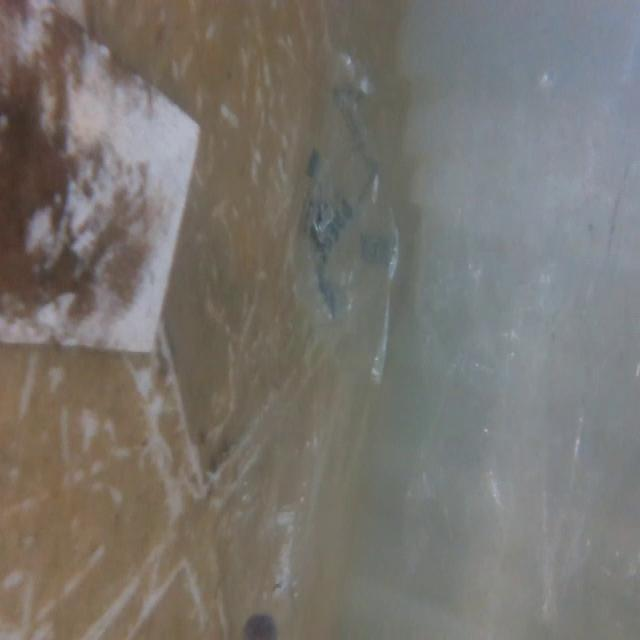metal: (0, 0, 204, 367)
plastic bags: (404, 8, 627, 581), (271, 42, 398, 385)
plastic bottle: (232, 419, 331, 640)
